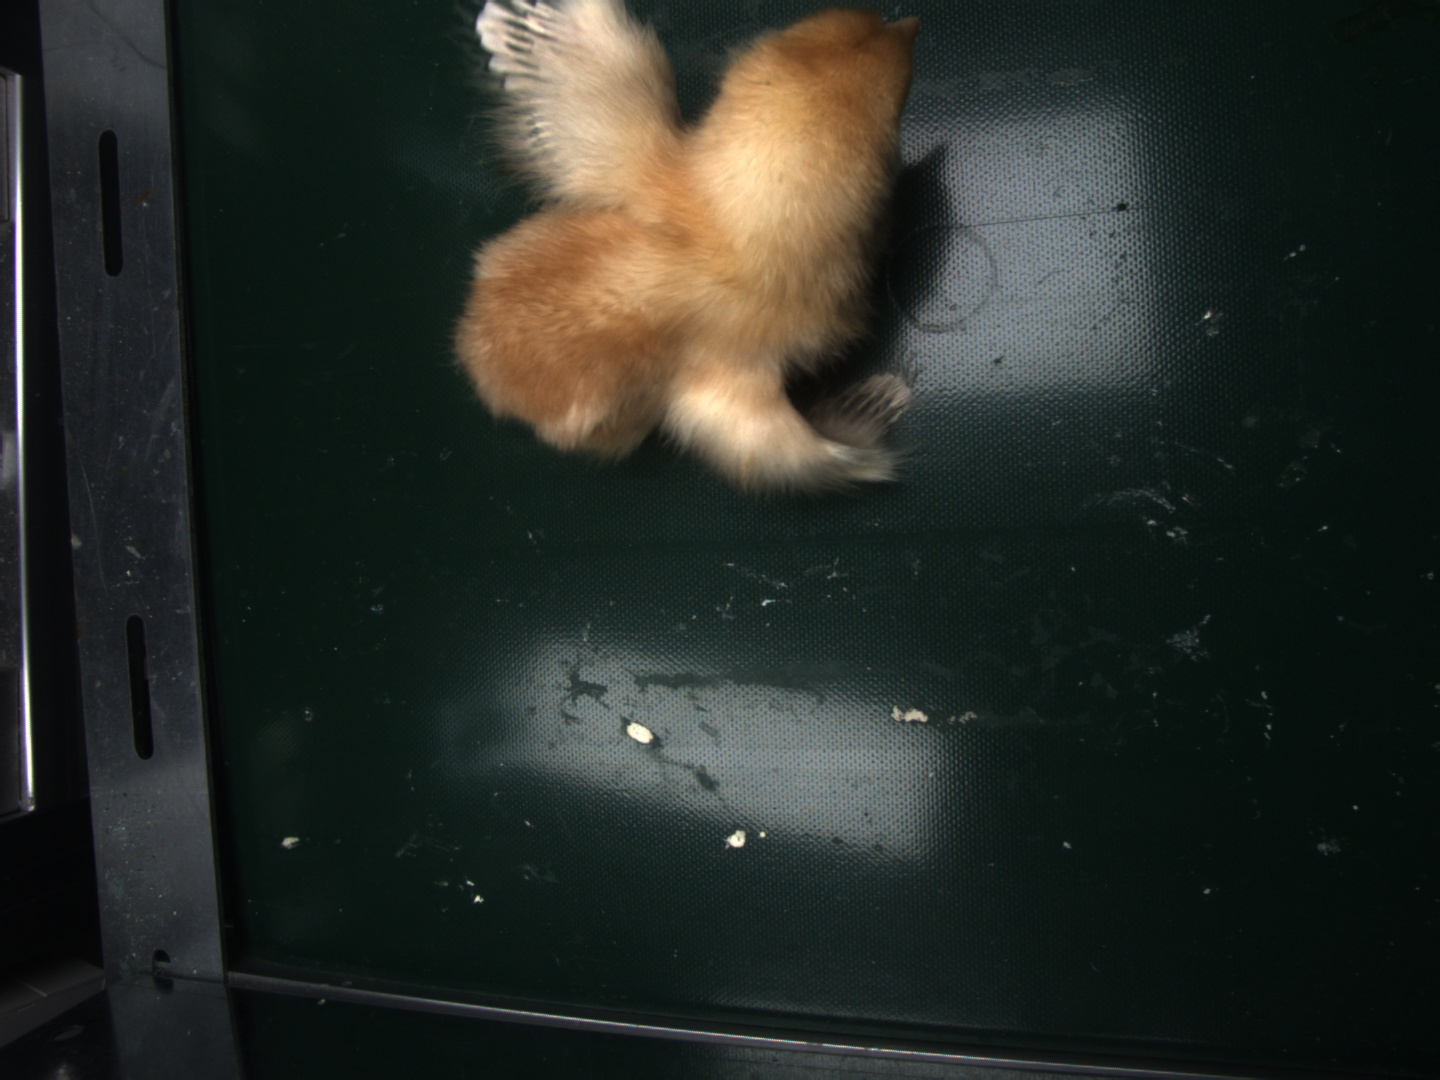female: (471, 2, 565, 88)
